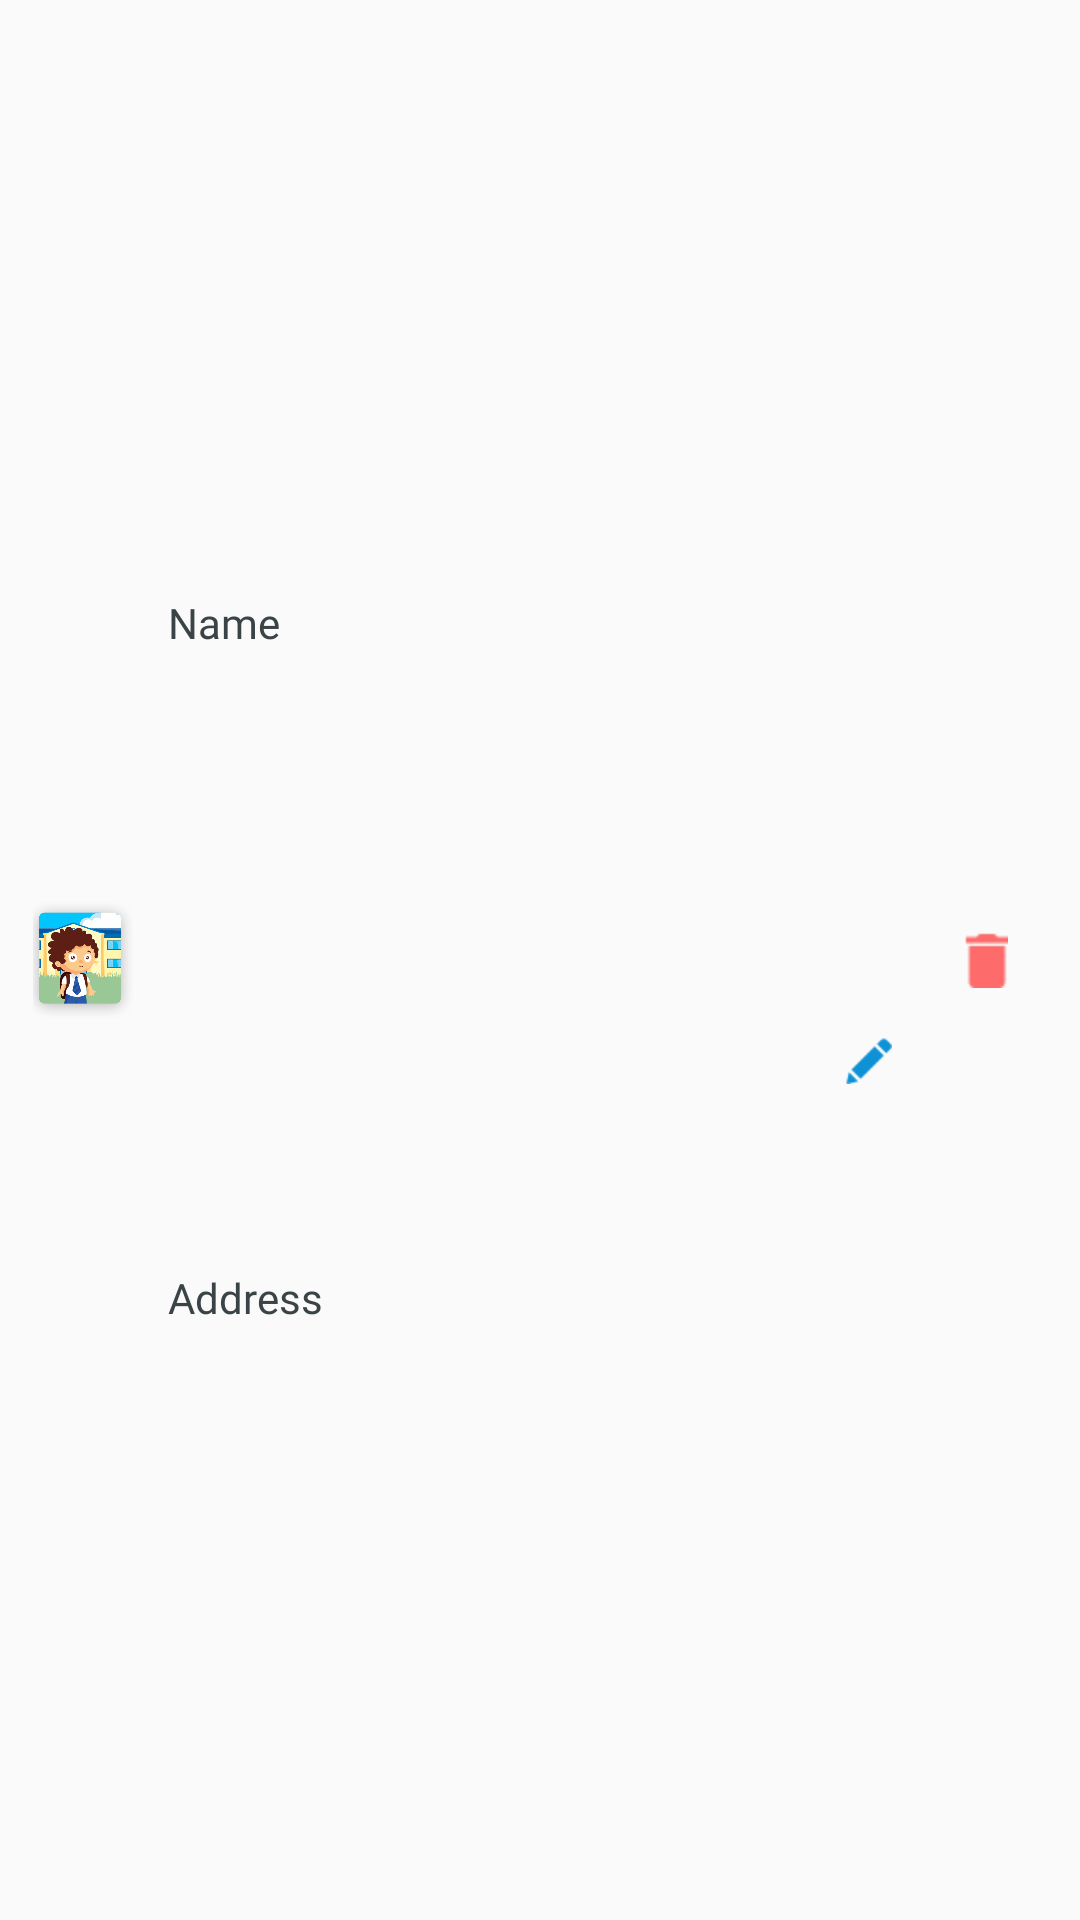

Where icons sit on this 1080x1920 app screen, as [x1=x1, y1=y1, x2=x2, y2=y2]:
delete: [x1=965, y1=933, x2=1008, y2=988]
edit: [x1=846, y1=1038, x2=892, y2=1084]
kid profile: [x1=36, y1=912, x2=124, y2=1008]
